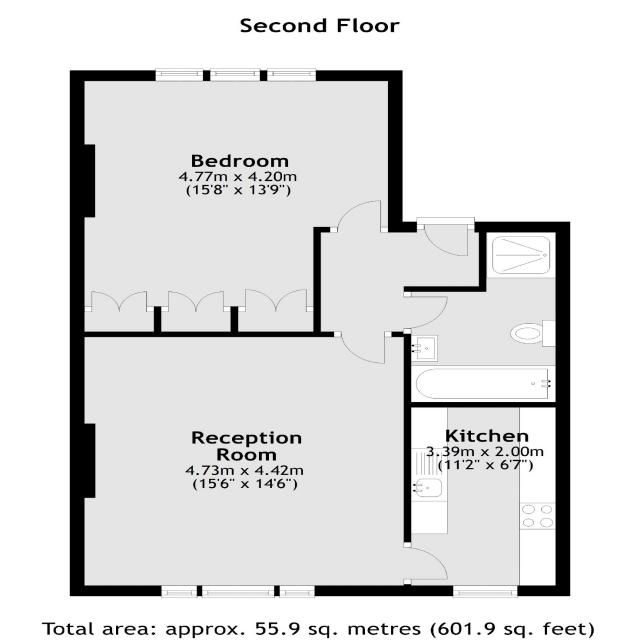DOOR: (416, 217, 476, 257), (328, 200, 389, 233), (333, 331, 392, 364), (404, 291, 448, 335), (403, 542, 448, 585)
ROOM: (69, 331, 449, 599), (69, 68, 403, 337), (403, 401, 571, 599)
WINDOW: (201, 585, 275, 599), (451, 585, 519, 599), (208, 67, 262, 82), (153, 67, 205, 82), (266, 68, 317, 82), (279, 585, 316, 599), (160, 585, 198, 598)
